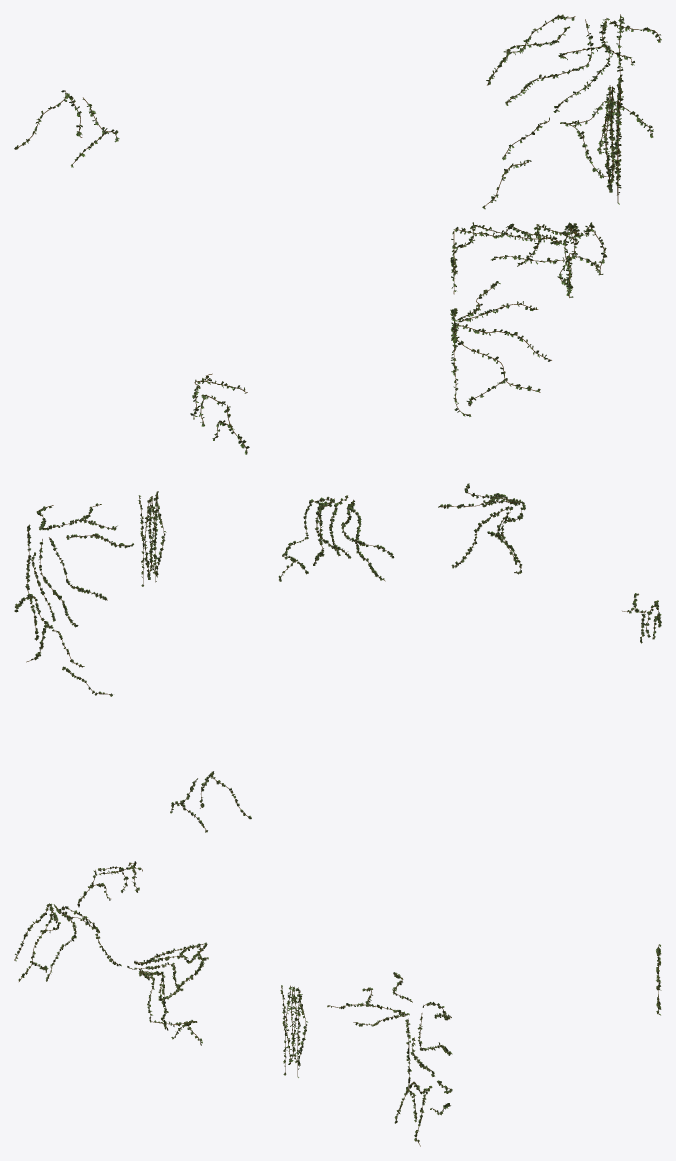
Rendered from West Ivy .fbx.
3 views of the same model, one above another, from view 1: azimuth 30°, elevation 25°; view 2: azimuth 150°, elevation 25°; view 3: azimuth 270°, elevation 25° (orthographic). The views are drawn at different scales.
Visible parts, largest first — view 1: Trepadeira Oeste; view 2: Trepadeira Oeste; view 3: Trepadeira Oeste.
Boxes of the visible parts, bbox=[...] form: Trepadeira Oeste: bbox=[14, 14, 661, 454]; Trepadeira Oeste: bbox=[14, 483, 661, 832]; Trepadeira Oeste: bbox=[14, 861, 661, 1146].
Size of the model in its own units: 3184 by 869 by 3648.
